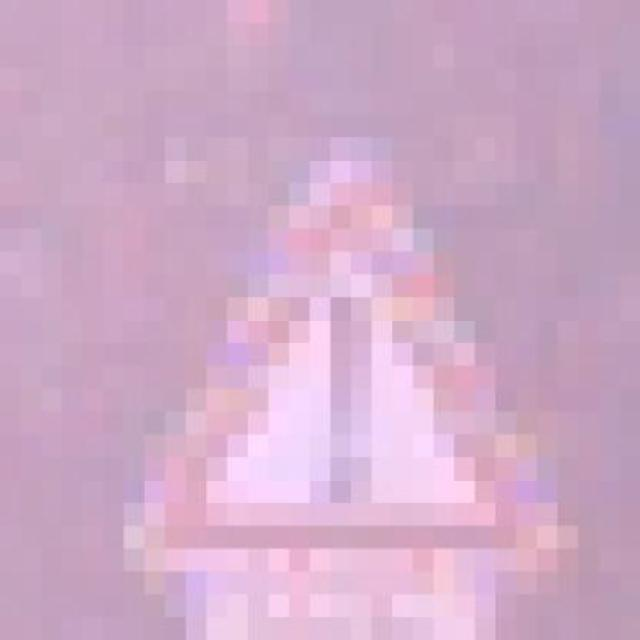Attention Please-: (108, 134, 562, 614)
